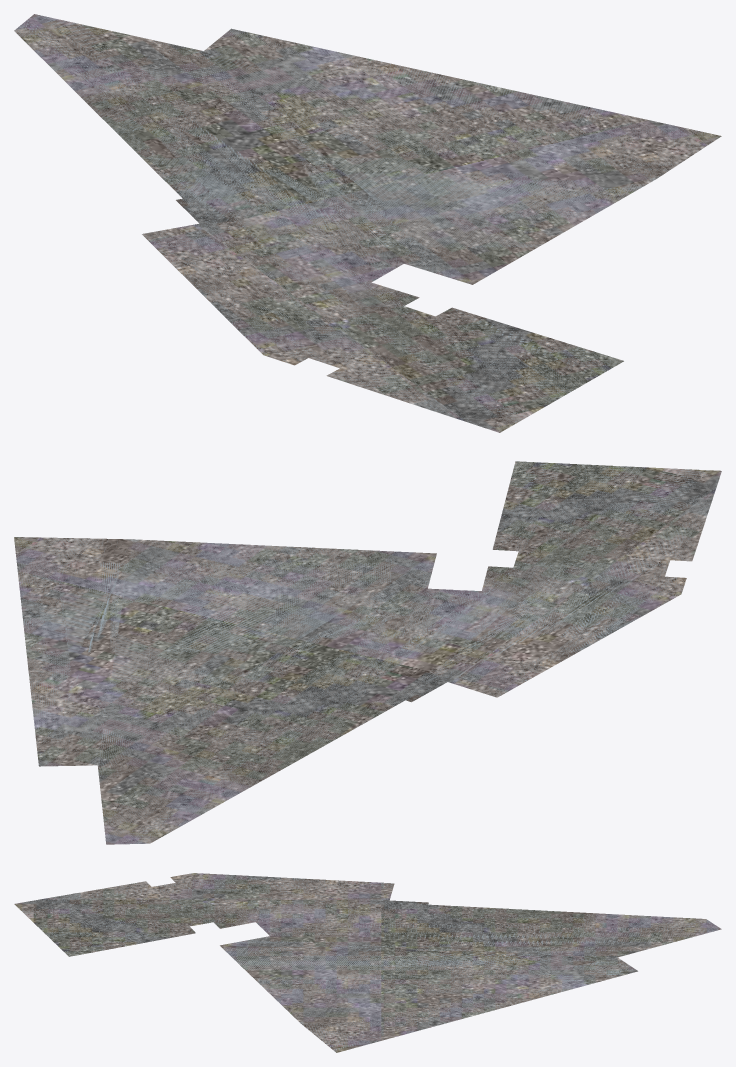
The model's file is 西庸城堡343.dae.
3 views of the same model, one above another, from view 1: azimuth 30°, elevation 25°; view 2: azimuth 150°, elevation 25°; view 3: azimuth 270°, elevation 25° (orthographic). The views are drawn at different scales.
Parts seen in each view (by area): view 1: SketchUp; view 2: SketchUp; view 3: SketchUp.
Boxes of the visible parts, left/top/right/bottom form: SketchUp: left=14, top=14, right=721, bottom=432; SketchUp: left=14, top=461, right=721, bottom=844; SketchUp: left=14, top=873, right=721, bottom=1052.
Bounding box in the file's own units: 881 × 1464 × 0.
